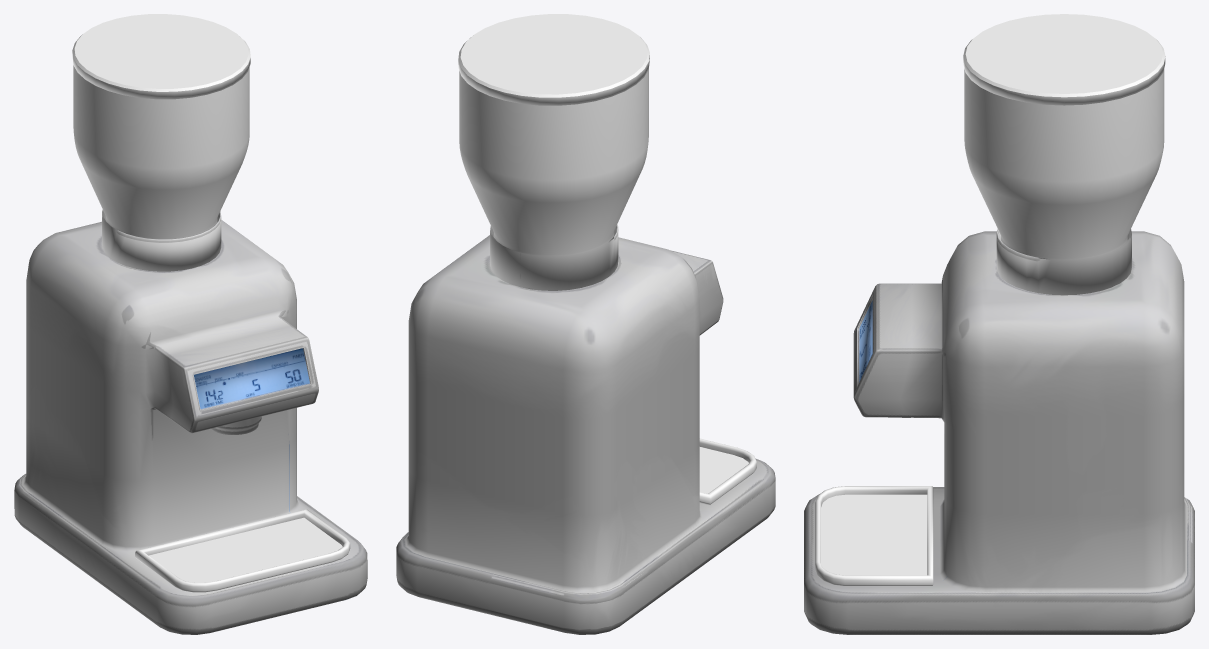
File: coffeegrinder.glb
The picture shows the model from 3 angles, left to right: view 1: azimuth 30°, elevation 25°; view 2: azimuth 150°, elevation 25°; view 3: azimuth 270°, elevation 25°; orthographic projection. The views are drawn at different scales.
Visible parts, largest first — view 1: Grinder.001; view 2: Grinder.001; view 3: Grinder.001.
Part boxes in pixels (x1,y1,x2,y2): Grinder.001: (14,14,367,634); Grinder.001: (396,14,775,634); Grinder.001: (804,14,1194,634).
Size of the model in its own units: 0.3369 by 0.7506 by 0.504.
Materials: 3 (1 with a texture image).
